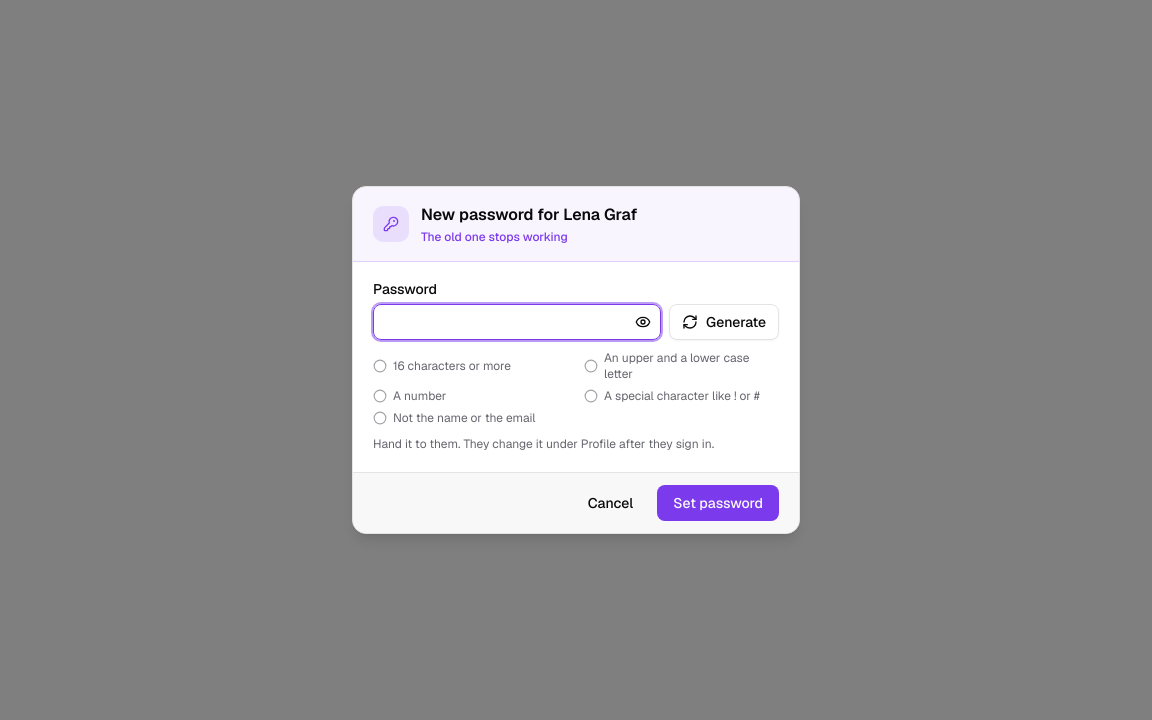
a new password an admin sets for someone › names the rule a typed password breaks and sets nothing
The width and height of the screenshot is (1152, 720).
Type "Harbor-Lamp-42" into the password field labelled "Password" at (517, 322), box [373, 304, 661, 340]
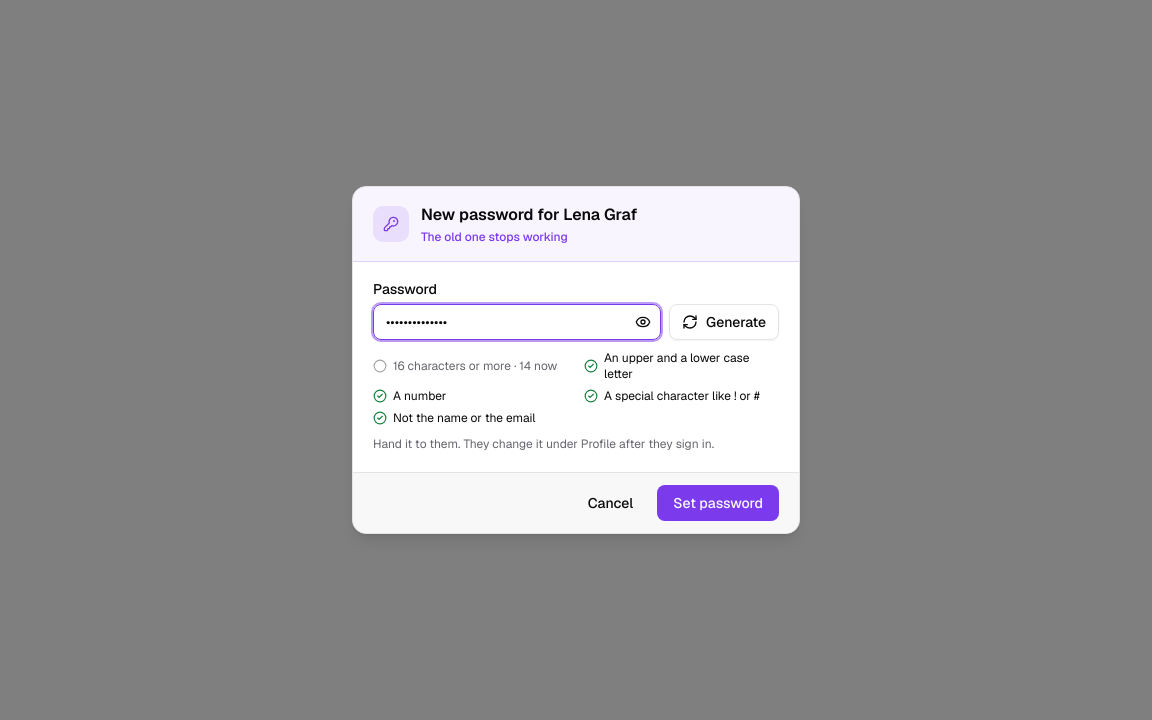
Click the button "Set password" at (718, 503), box [657, 485, 779, 521]
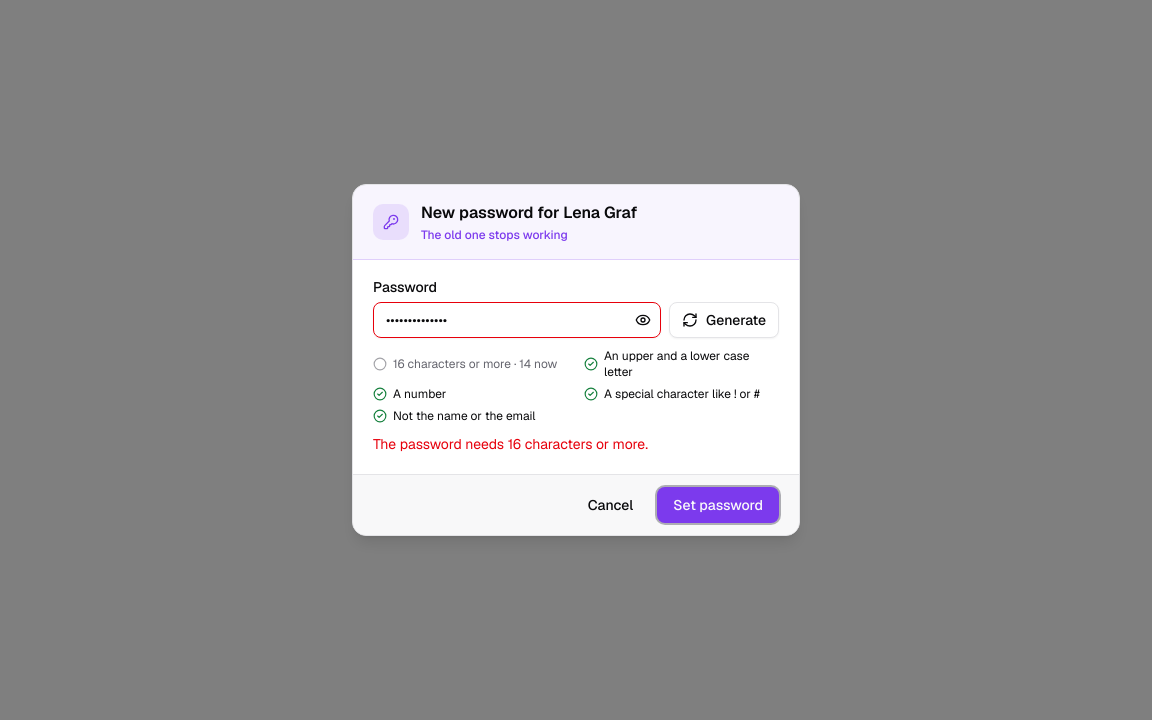
Expected: the text "The password needs 16 characters or more." is shown, [373, 435, 648, 453]
